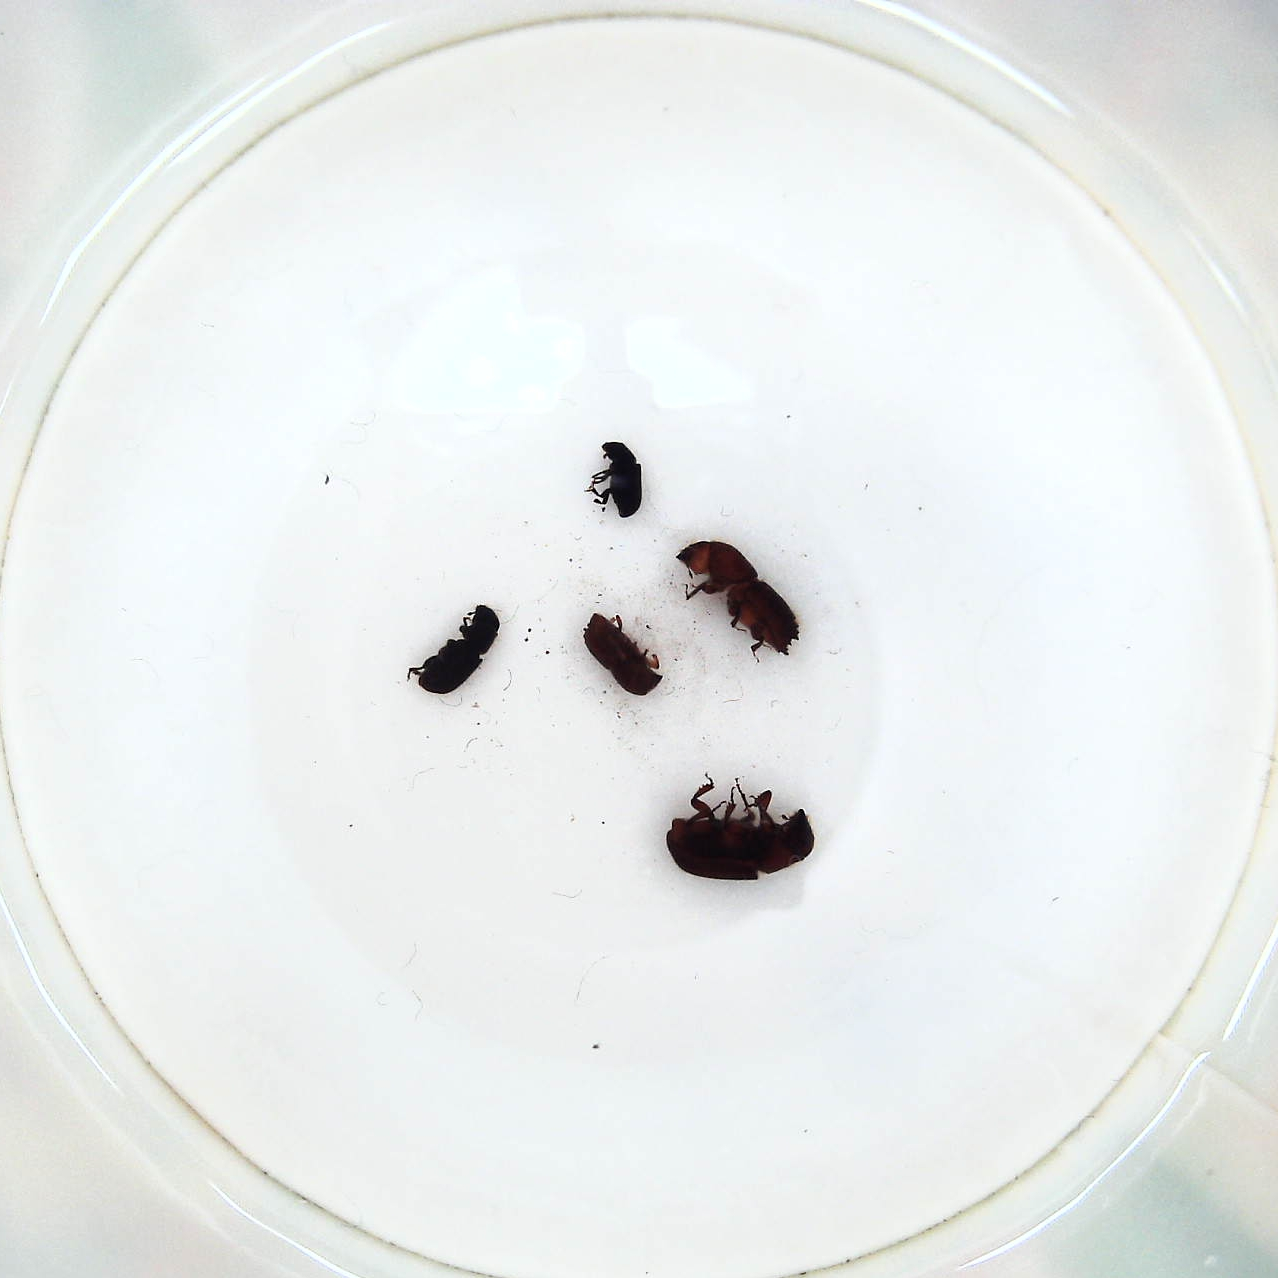Boerner: (672, 534, 808, 664)
Leconte: (664, 778, 818, 892)
armandi: (413, 597, 503, 698)
coleoptera: (584, 434, 647, 522)
linnaeus: (584, 609, 667, 705)
